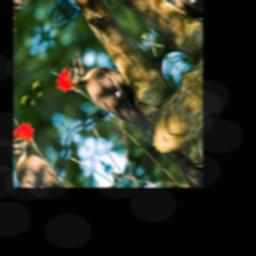Woodpecker: (50, 33, 171, 162)
